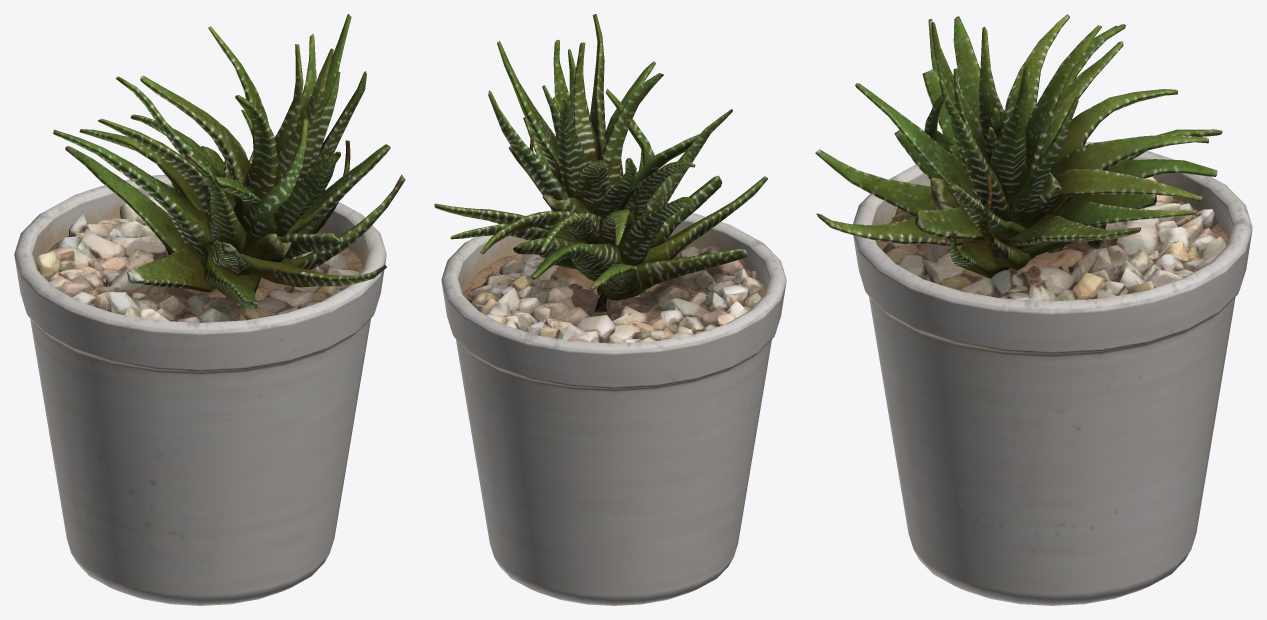
File: plant.glb
The picture shows the model from 3 angles, left to right: view 1: azimuth 30°, elevation 25°; view 2: azimuth 150°, elevation 25°; view 3: azimuth 270°, elevation 25°; orthographic projection. The views are drawn at different scales.
Parts seen in each view (by area): view 1: potted_plant_04; view 2: potted_plant_04; view 3: potted_plant_04.
Part boxes in pixels (bbox=[...]): potted_plant_04: bbox=[14, 14, 405, 605]; potted_plant_04: bbox=[434, 14, 786, 605]; potted_plant_04: bbox=[815, 14, 1252, 605].
Size of the model in its own units: 0.1703 by 0.2676 by 0.1859.
Materials: 1 (1 with a texture image).
